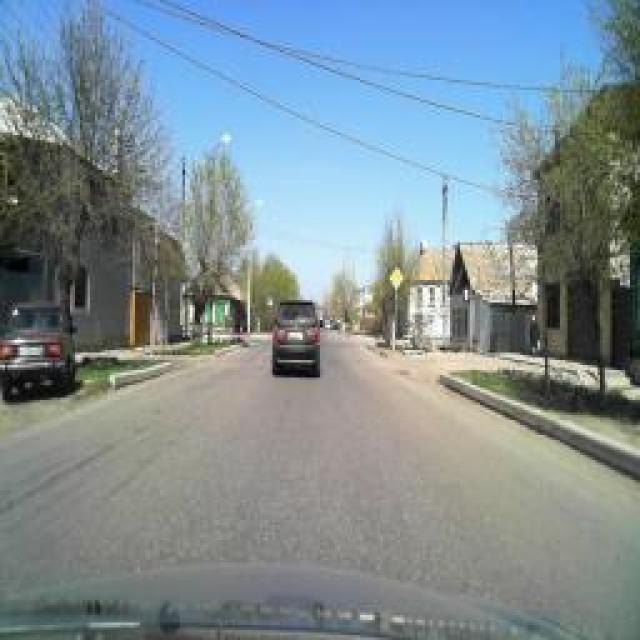sign: (388, 268, 404, 290)
